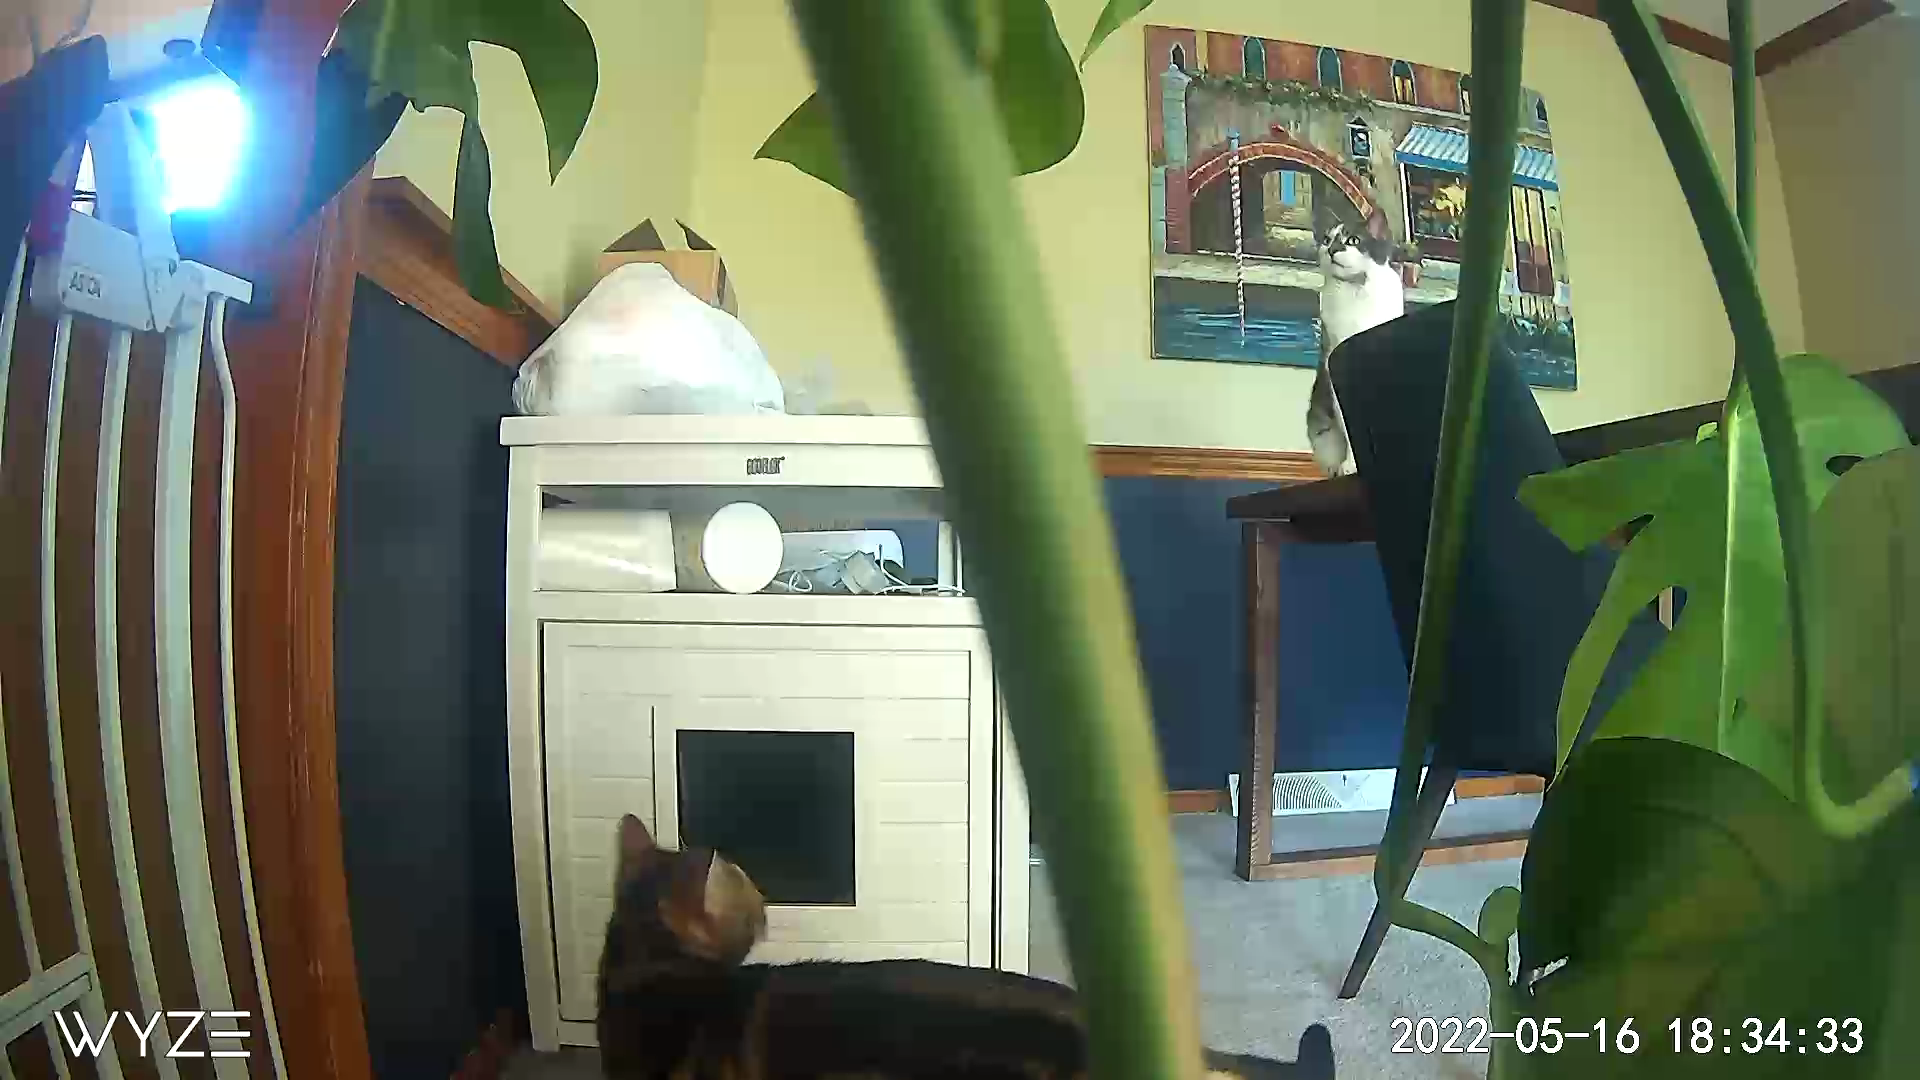sparky: (556, 807, 1124, 1080)
